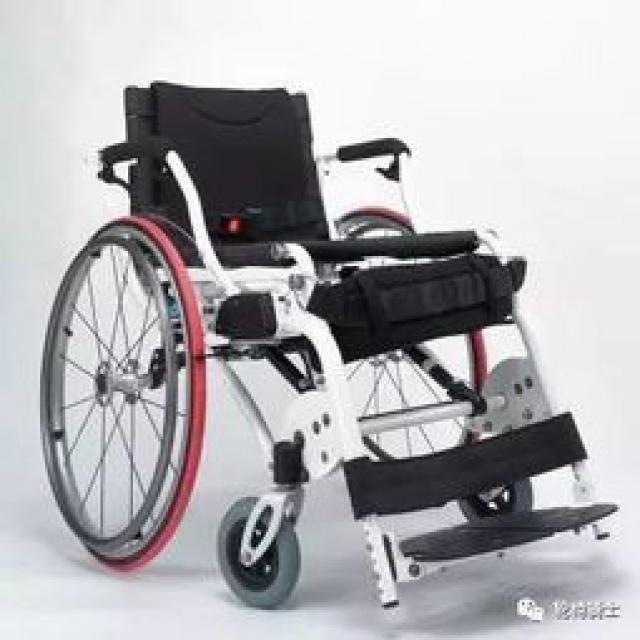wheelchair: (40, 48, 638, 605)
